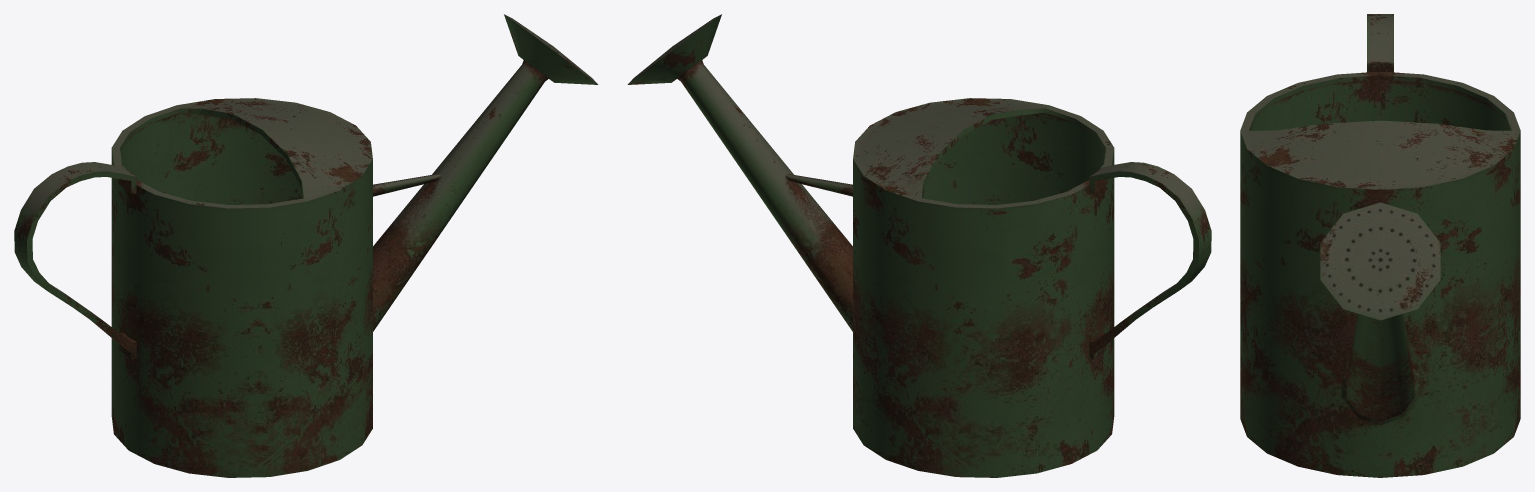
File: watering_pail_low_poly.glb
3 renders of one model, left to right at view 1: azimuth 30°, elevation 25°; view 2: azimuth 150°, elevation 25°; view 3: azimuth 270°, elevation 25°, orthographic. The views are drawn at different scales.
Parts seen in each view (by area): view 1: Watering_Pail; view 2: Watering_Pail; view 3: Watering_Pail.
Part boxes in pixels (left/top/right/bottom): Watering_Pail: left=14, top=14, right=598, bottom=477; Watering_Pail: left=627, top=14, right=1211, bottom=477; Watering_Pail: left=1240, top=14, right=1520, bottom=477.
Bounding box in the file's own units: 25.89 × 14.6 × 10.37.
Materials: 1 (1 with a texture image).
